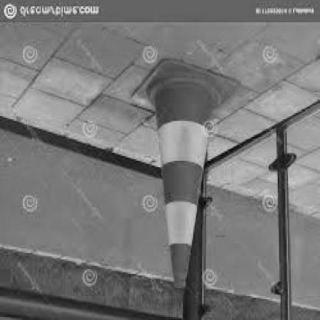other: (157, 64, 233, 208)
